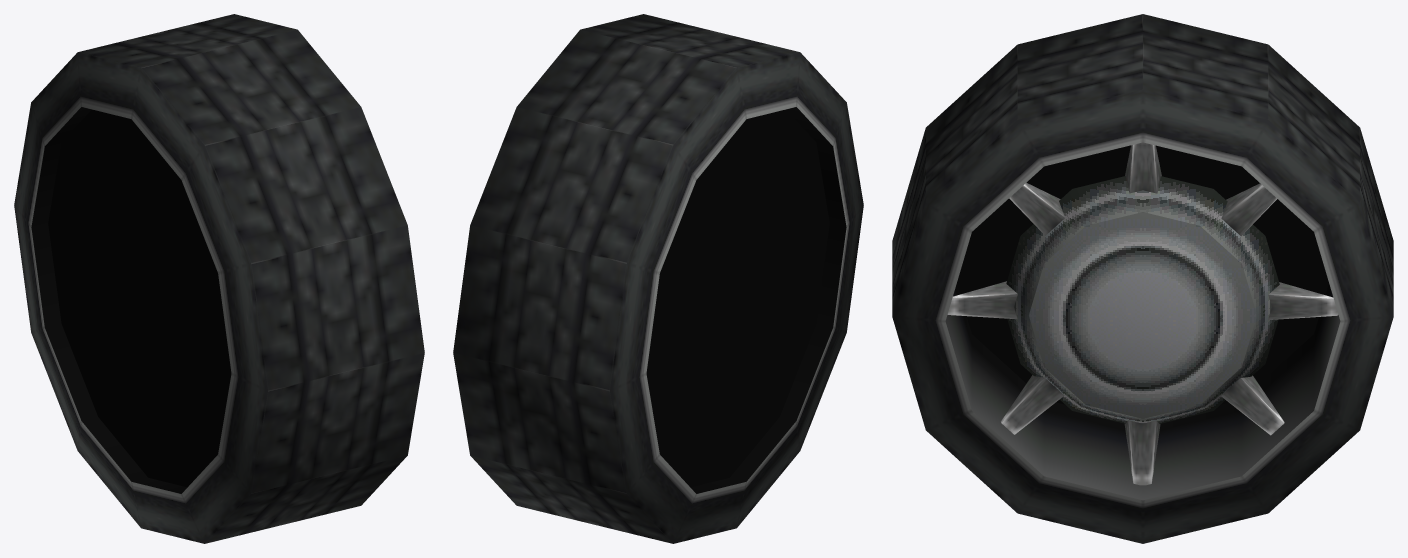
The model's file is DefaultWheel_sentinel.glb.
3 renders of one model, left to right at view 1: azimuth 30°, elevation 25°; view 2: azimuth 150°, elevation 25°; view 3: azimuth 270°, elevation 25°, orthographic.
Visible parts, largest first — view 1: wheel; view 2: wheel; view 3: wheel.
Part boxes in pixels (x1,y1,x2,y2): wheel: (14, 14, 424, 543); wheel: (453, 14, 863, 543); wheel: (892, 14, 1393, 543).
Size of the model in its own units: 0.2954 by 0.7026 by 0.7026.
5 materials, 4 textured.
